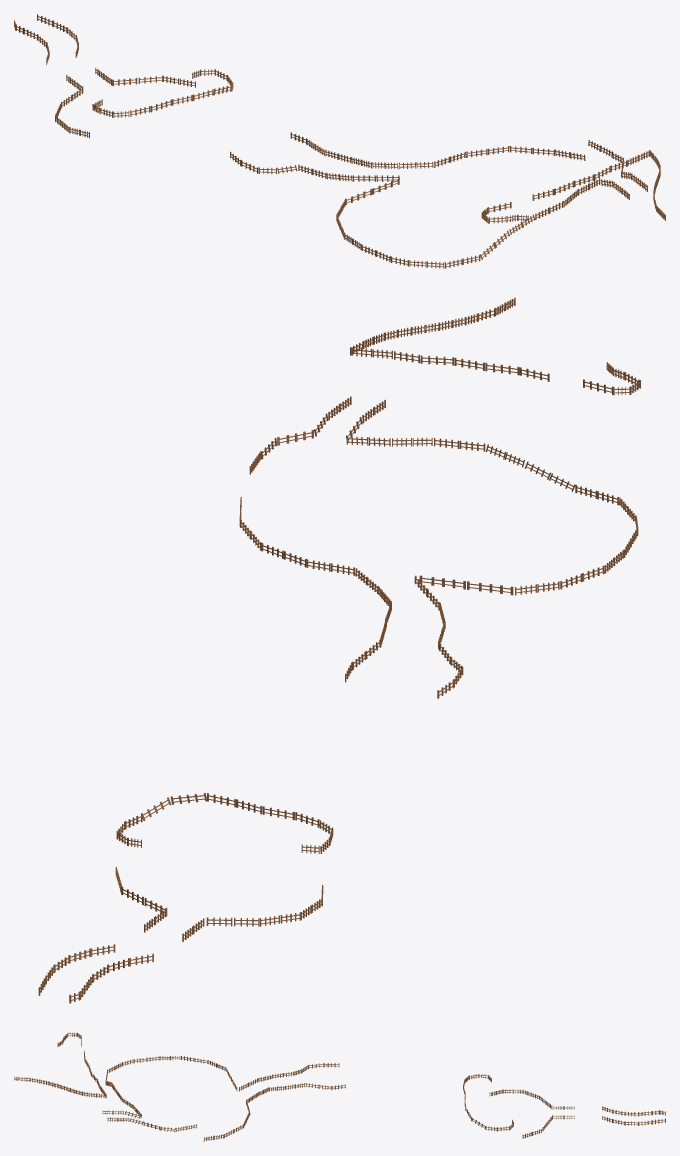
File: World_Shop_Fruit World Fence.fbx
3 views of the same model, one above another, from view 1: azimuth 30°, elevation 25°; view 2: azimuth 150°, elevation 25°; view 3: azimuth 270°, elevation 25° (orthographic). The views are drawn at different scales.
Parts seen in each view (by area): view 1: Fence.026; view 2: Fence.026; view 3: Fence.026.
Part boxes in pixels (x1,y1,x2,y2): Fence.026: (14, 14, 665, 268); Fence.026: (38, 297, 641, 1003); Fence.026: (14, 1032, 665, 1141).
Bounding box in the file's own units: 71.73 × 31.53 × 208.
